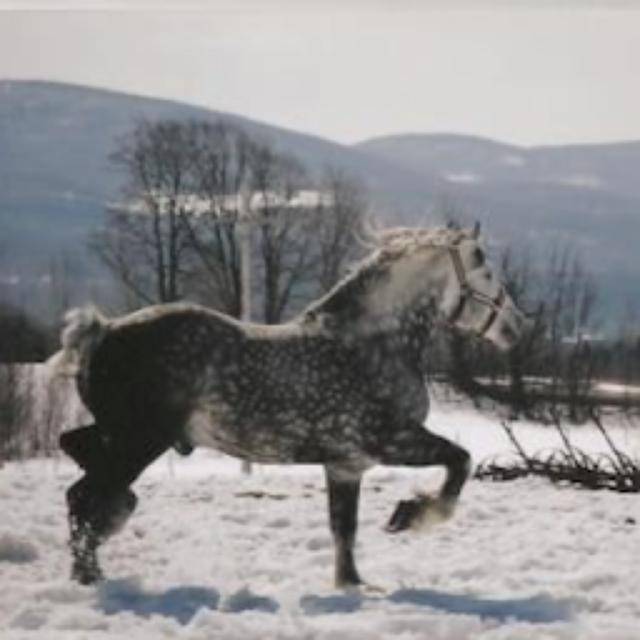Horse: (40, 212, 535, 596)
